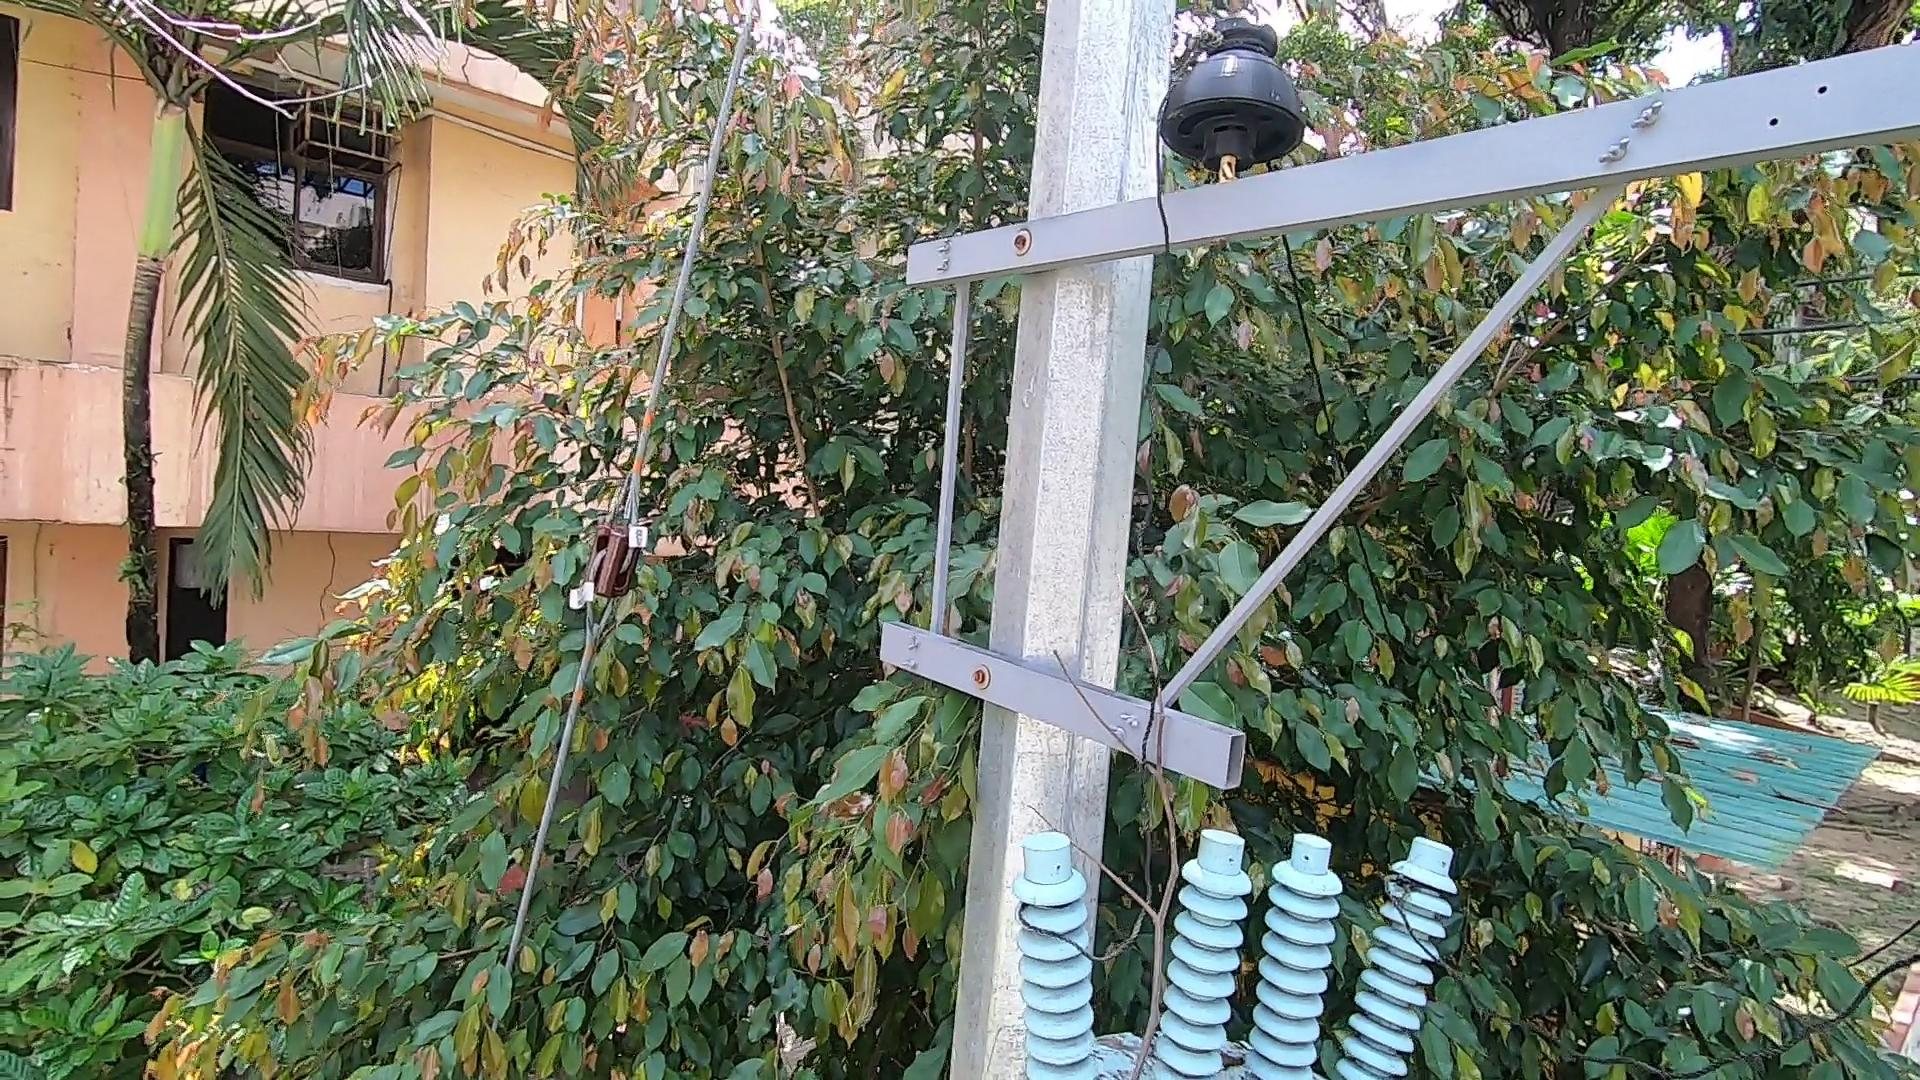tree branch: (1019, 559, 1218, 1080)
